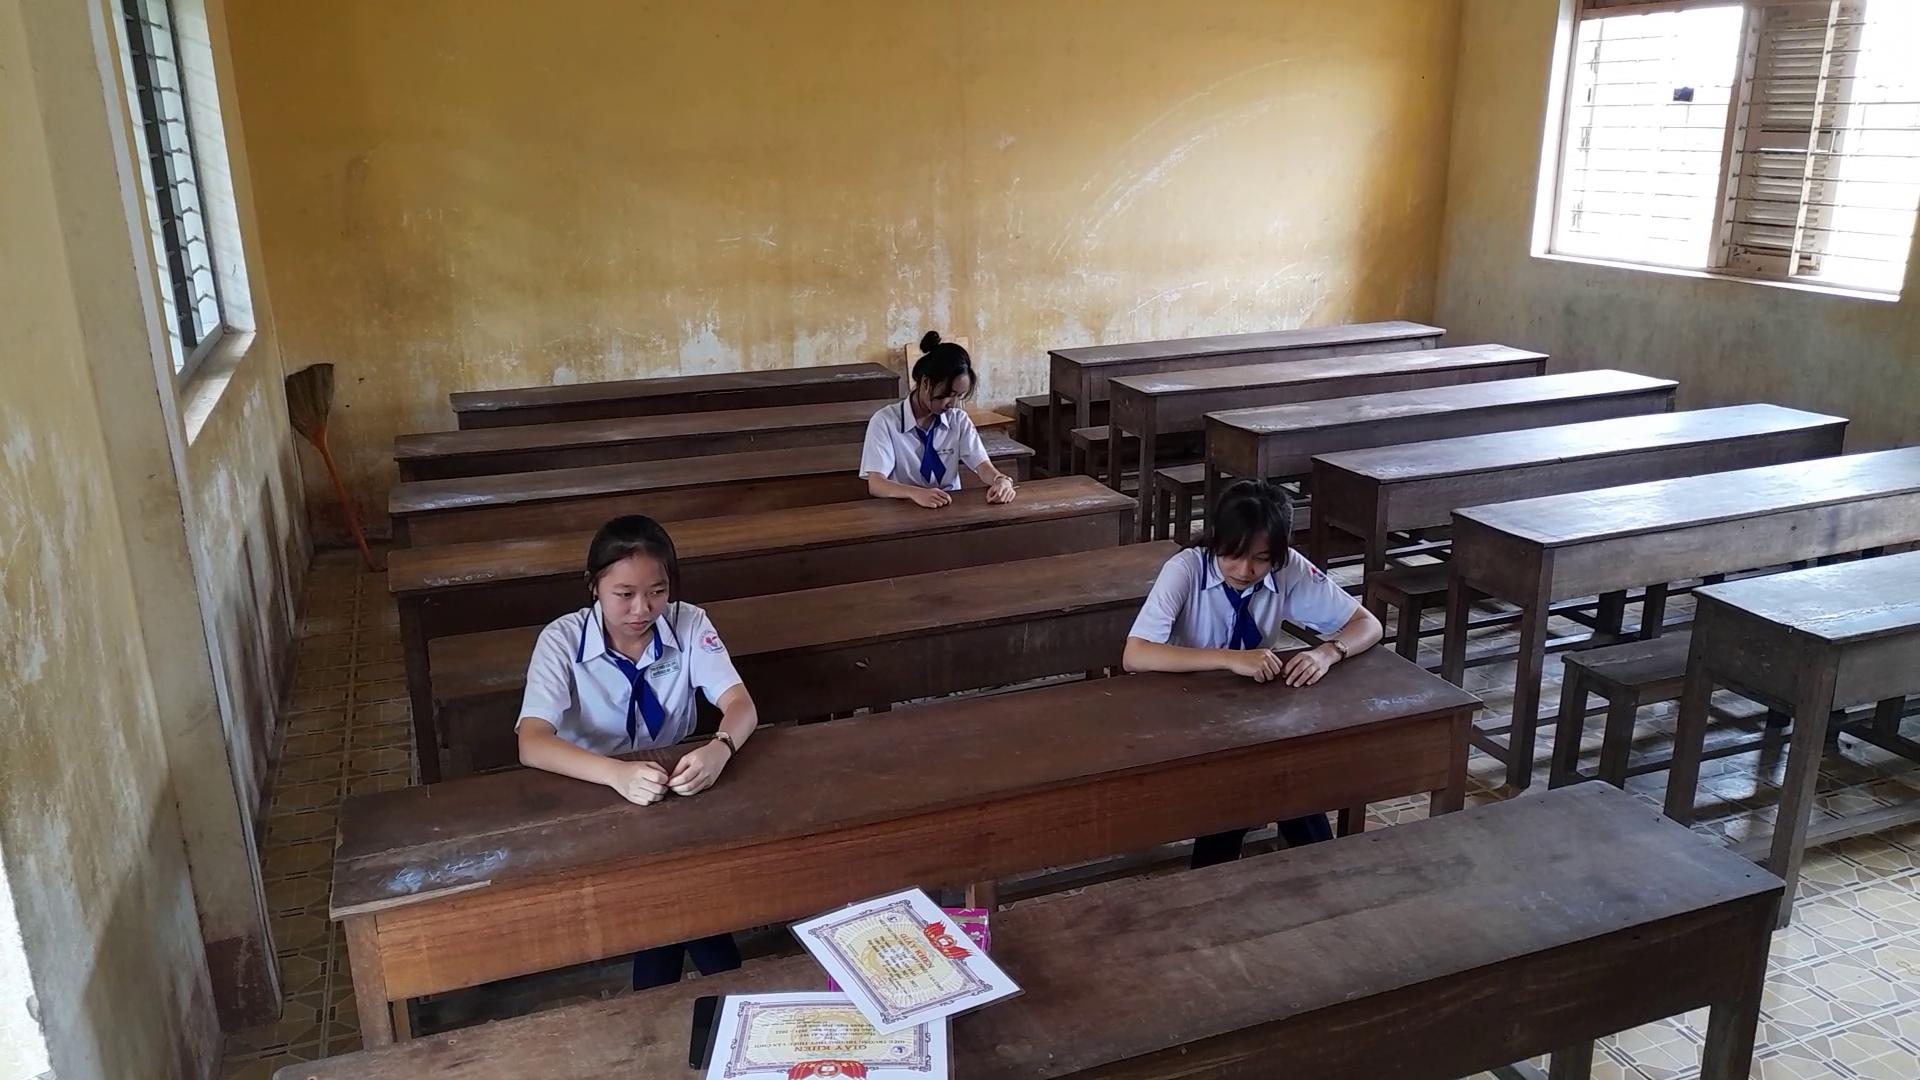Bend Over The Desk: (1167, 458, 1309, 604), (884, 316, 1019, 439)
Normal: (505, 495, 760, 820)
